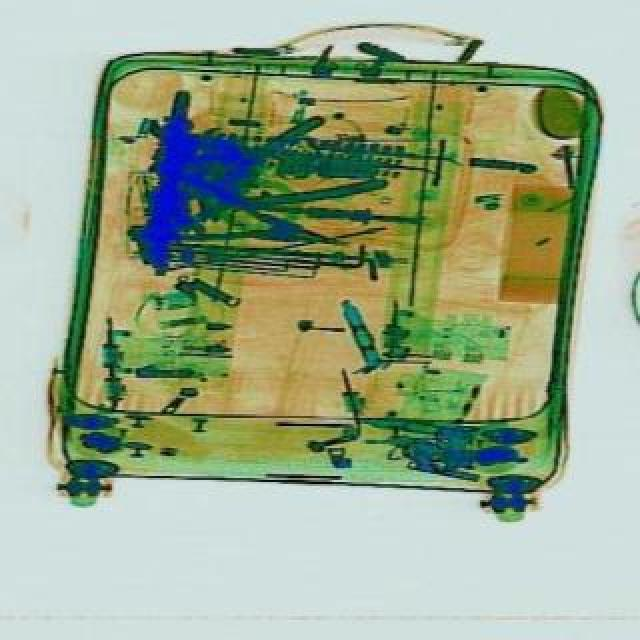wrench: (174, 176, 364, 282)
